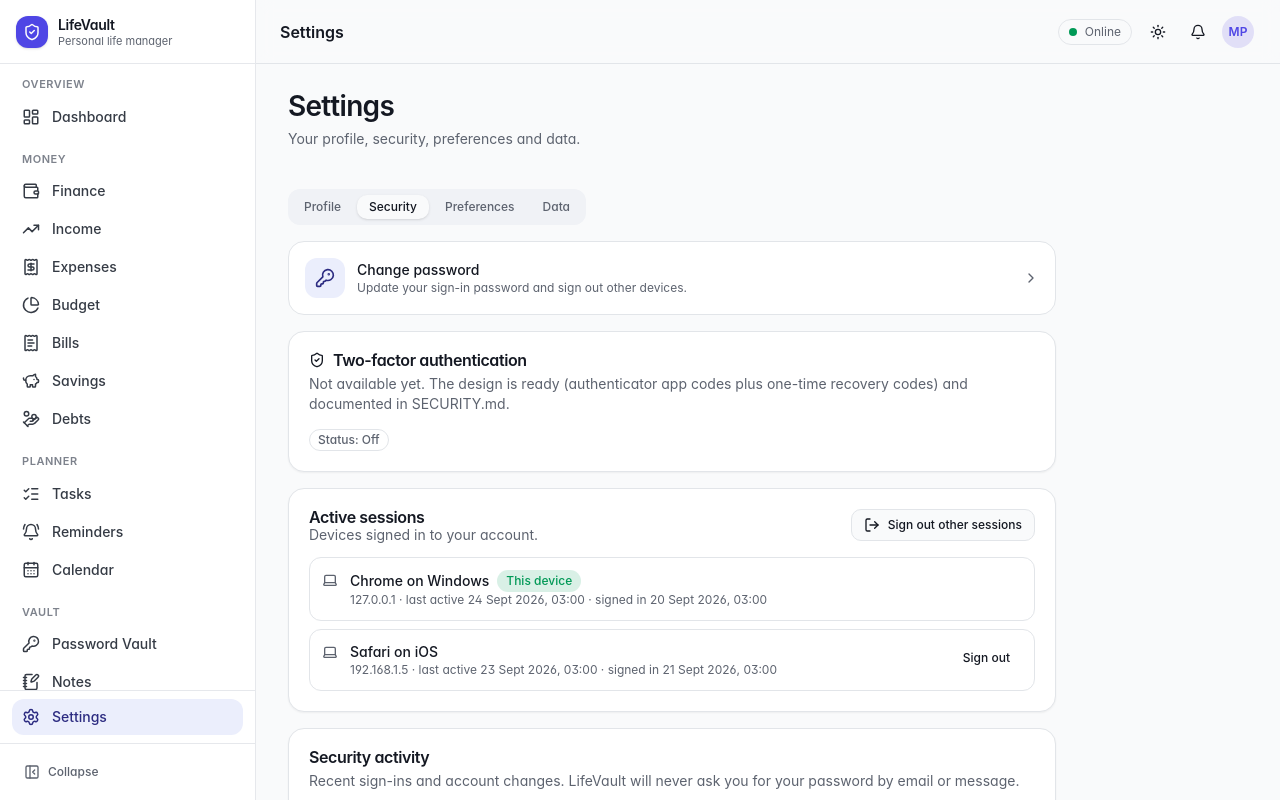
Test case: settings: security › lists sessions and signs out other devices
The image size is (1280, 800).
Check: the text "This device" is shown, box [497,570,581,592]
Check: the list item that starts with "Safari on iOS" is shown, box [350,643,438,660]
Click the button with aria-label "Sign out Safari on iOS" at (986, 658), box [951,642,1022,674]
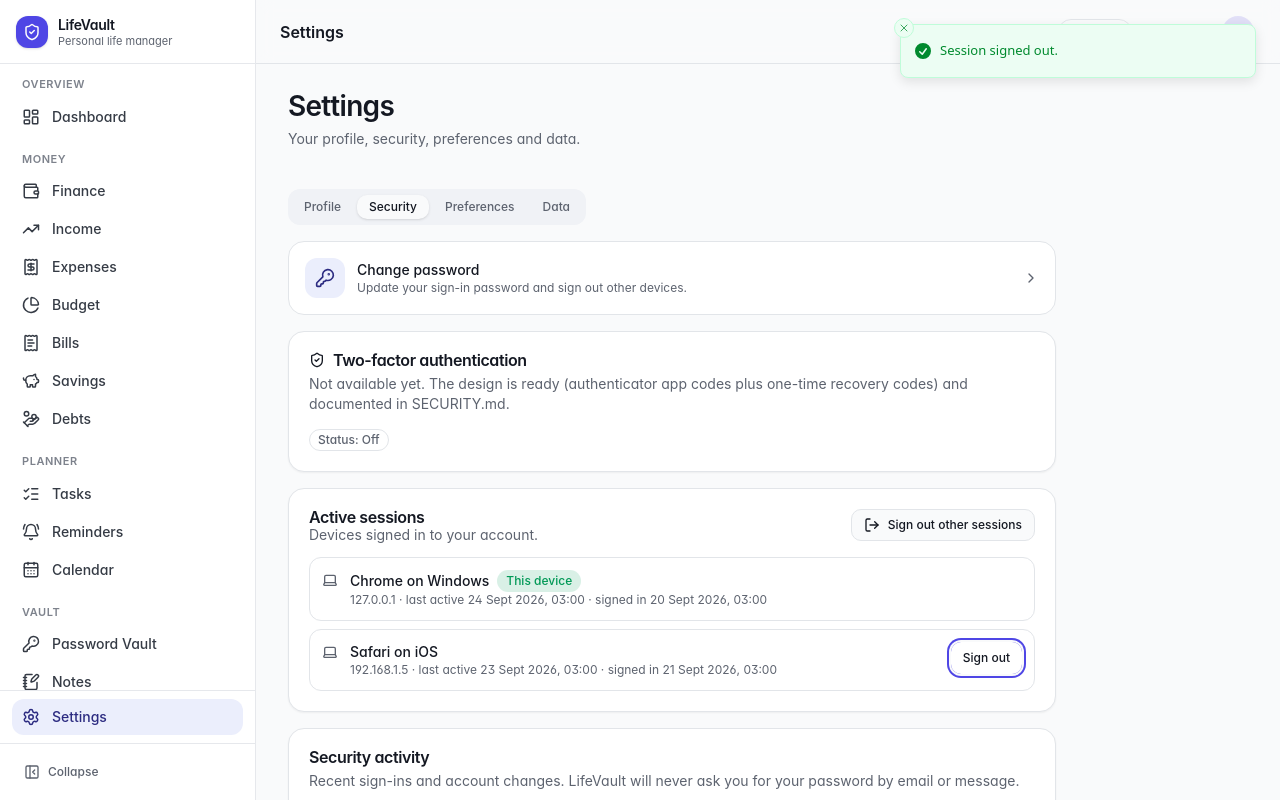
Click the button "Sign out other sessions" at (943, 525), box [851,509,1035,541]
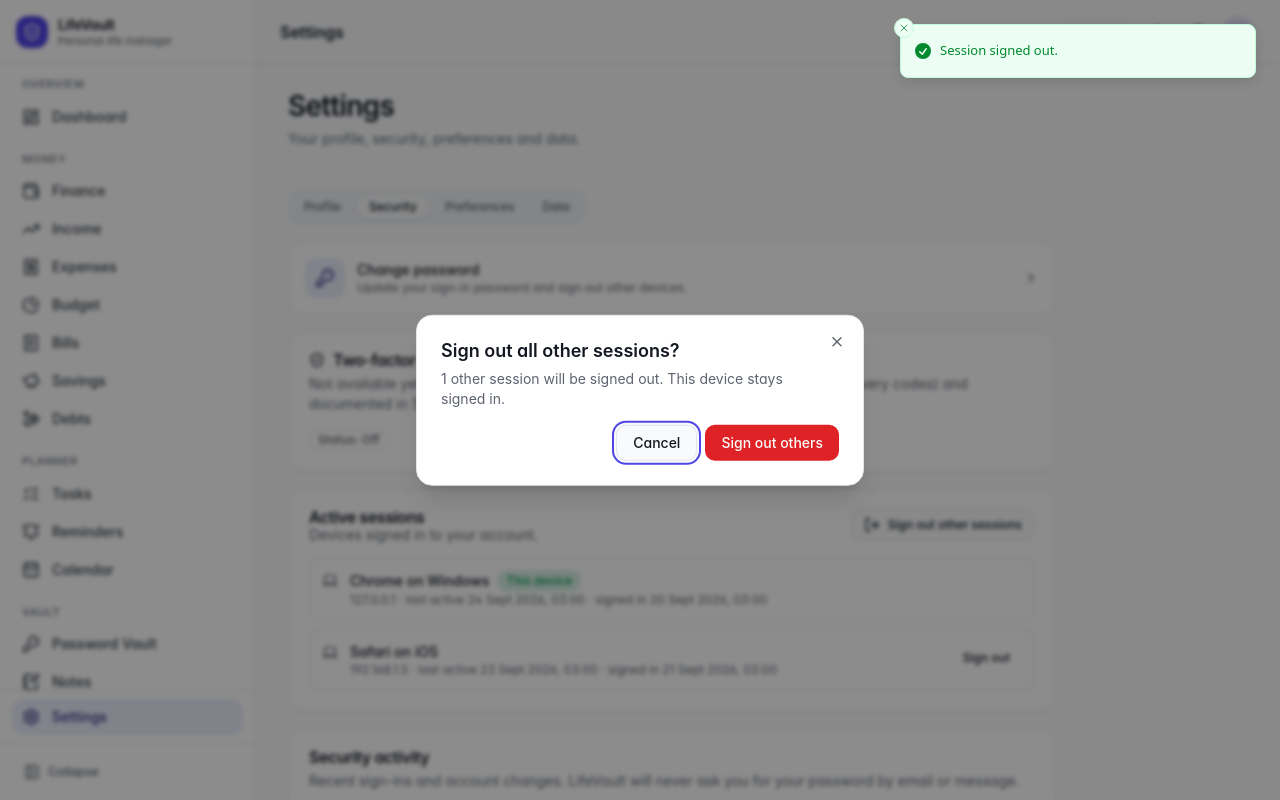
Click the button "Sign out others" at (772, 442), box [705,424,839,460]
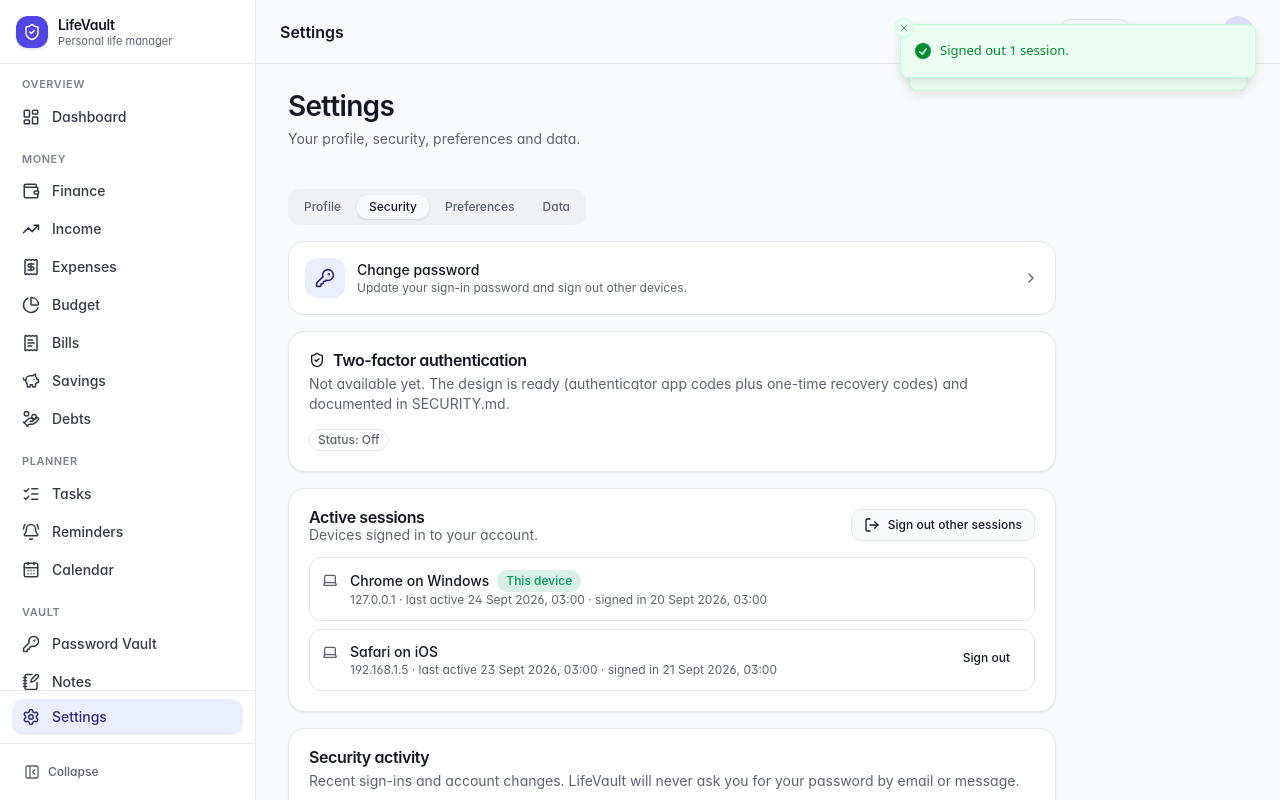
Check: the text "Not available yet" is shown, box [309,375,968,412]
Check: the text "Signed out 1 session." is shown, box [940,41,1069,60]
